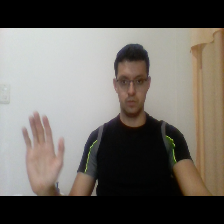left: (14, 104, 72, 192)
